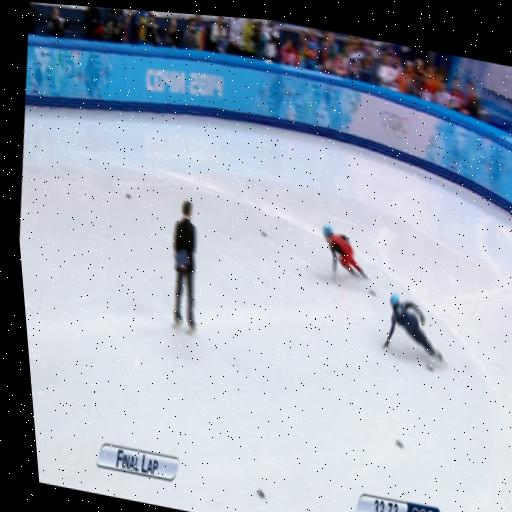Skater: (384, 294, 443, 362), (323, 225, 367, 279)
